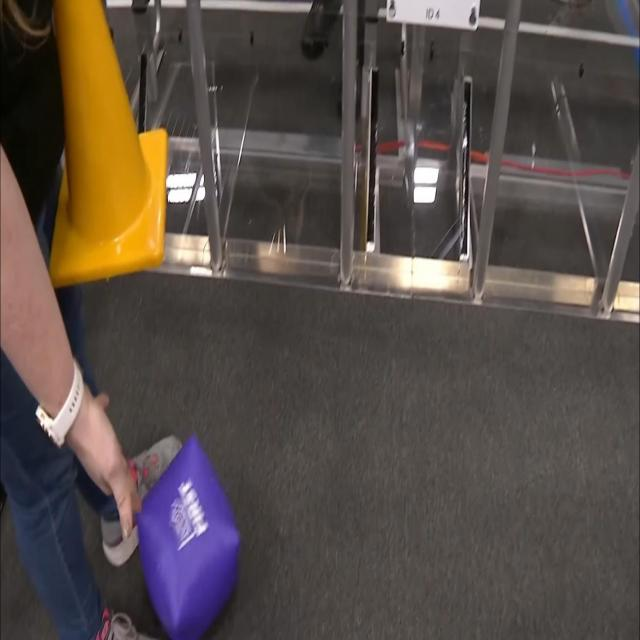frc_cone: (38, 0, 168, 286)
frc_cube: (128, 432, 244, 640)
